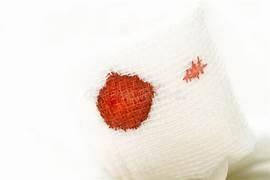cotton: (92, 10, 253, 179), (97, 72, 153, 129), (226, 137, 269, 179), (183, 57, 206, 81), (205, 161, 228, 179)
